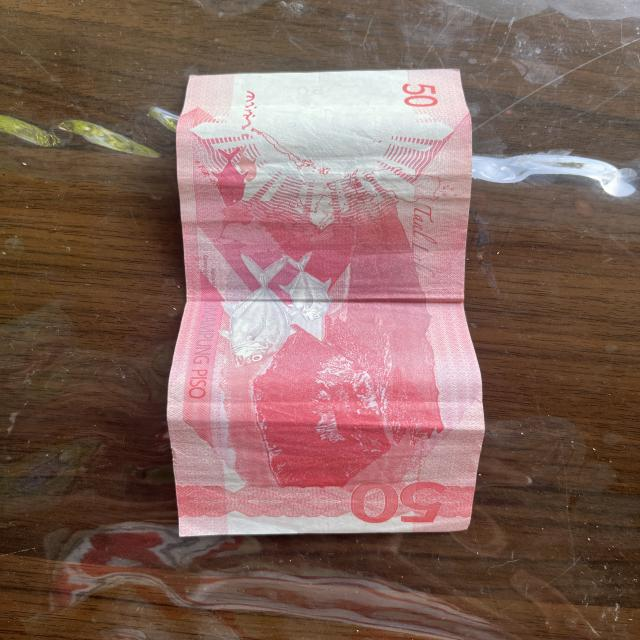50_maliputo: (215, 241, 338, 365)
50_maliputo_watermark: (213, 137, 268, 208)
